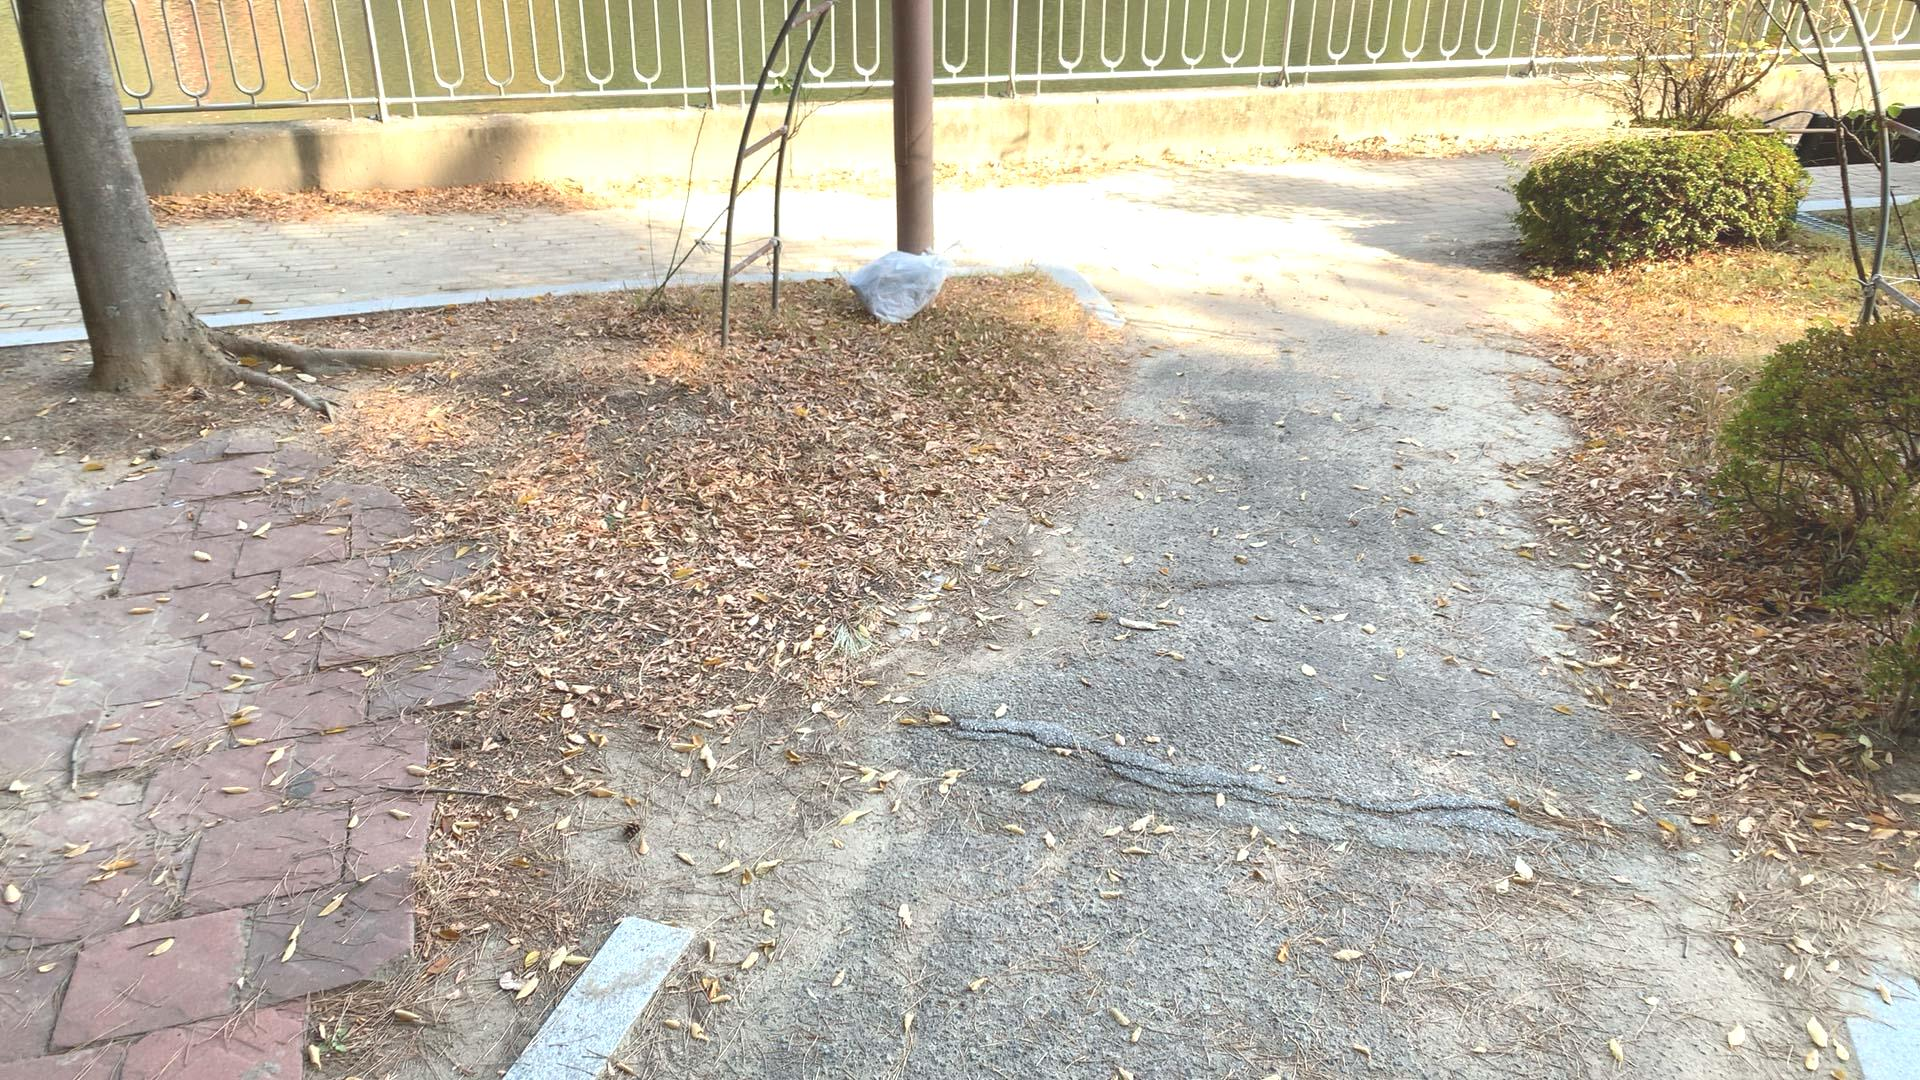white_bag: (847, 245, 963, 326)
